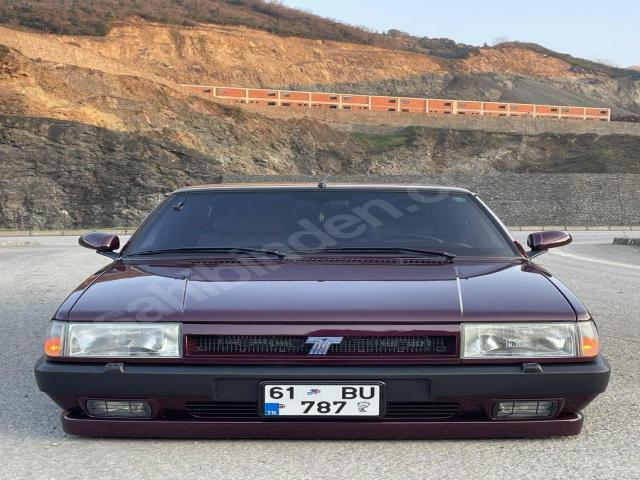plaka: (261, 383, 381, 416)
